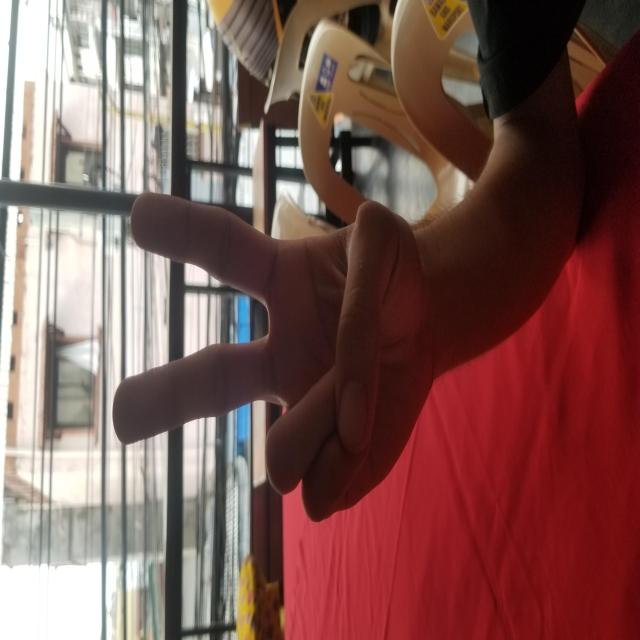V: (113, 109, 457, 432)
